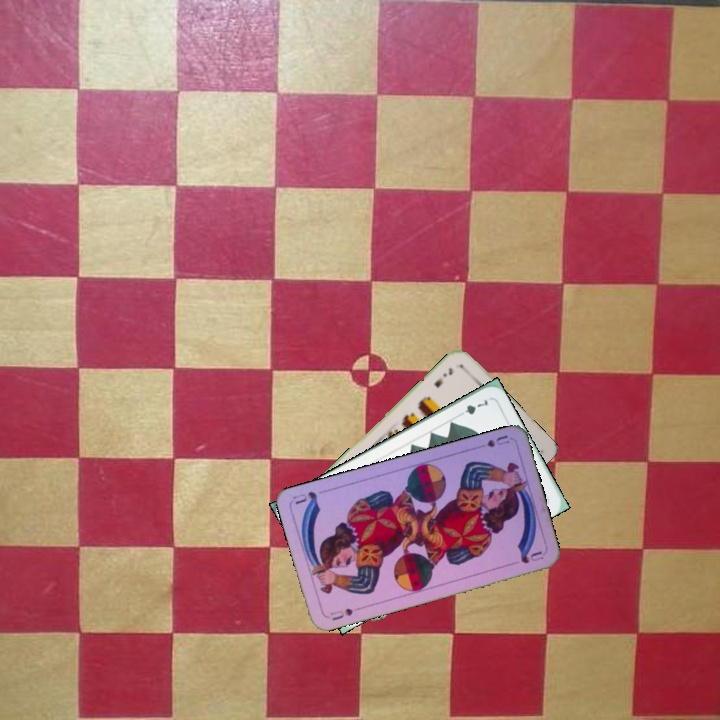E7: (430, 364, 455, 390)
G7: (453, 395, 491, 419)
SU: (482, 431, 512, 450), (326, 604, 355, 623)
